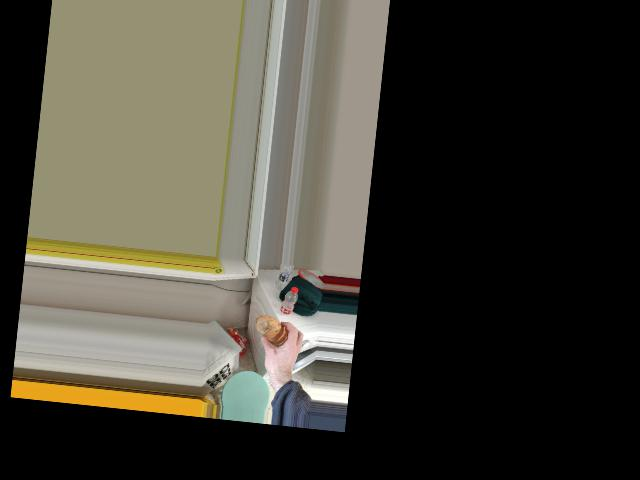sweet_potato: (254, 312, 287, 346)
